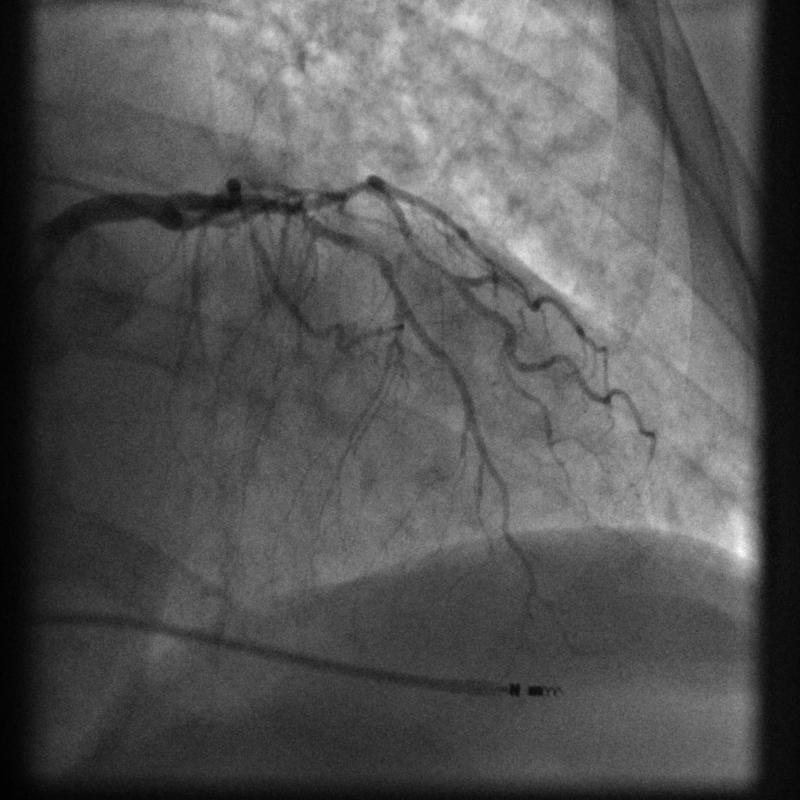Stenosis: (352, 235, 391, 275)
